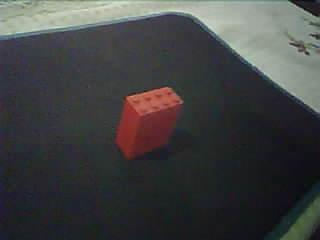lego: (113, 86, 184, 159)
